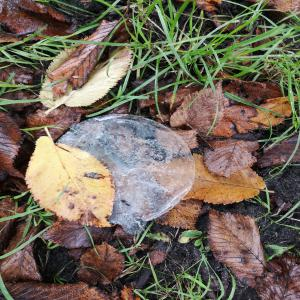Trash: (51, 114, 198, 237)
